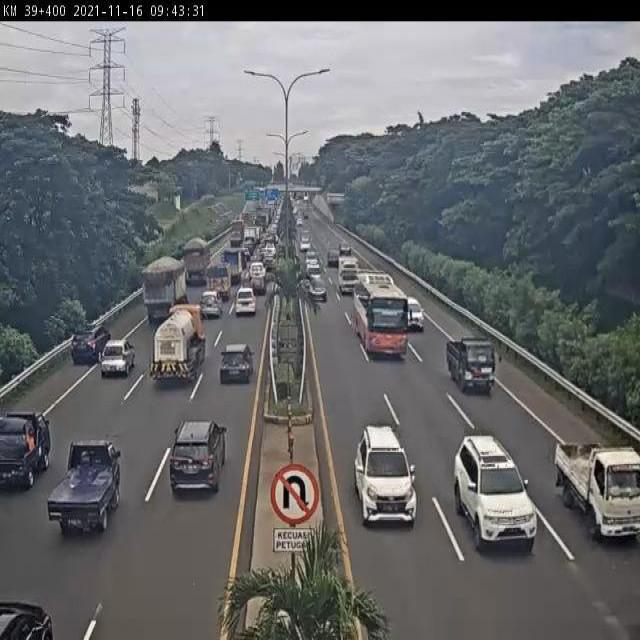big bus: (353, 271, 410, 360)
car: (455, 432, 537, 551), (551, 438, 640, 542), (47, 438, 121, 538), (353, 422, 417, 530), (168, 420, 229, 499), (0, 411, 52, 501), (446, 338, 498, 393), (69, 323, 111, 369), (217, 345, 255, 392), (97, 340, 136, 381), (398, 295, 424, 329), (235, 287, 258, 317), (198, 291, 221, 320), (250, 262, 268, 290)
small truck: (204, 263, 231, 300)
truck-m-: (152, 303, 208, 387), (143, 253, 193, 329), (180, 239, 211, 288)
